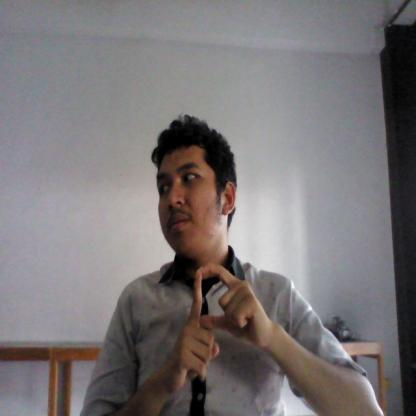D: (163, 261, 271, 391)
